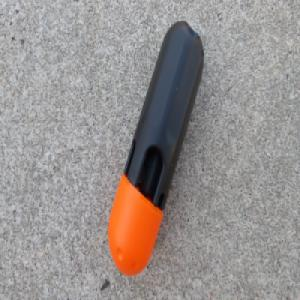PlasticPart: (106, 18, 205, 276)
